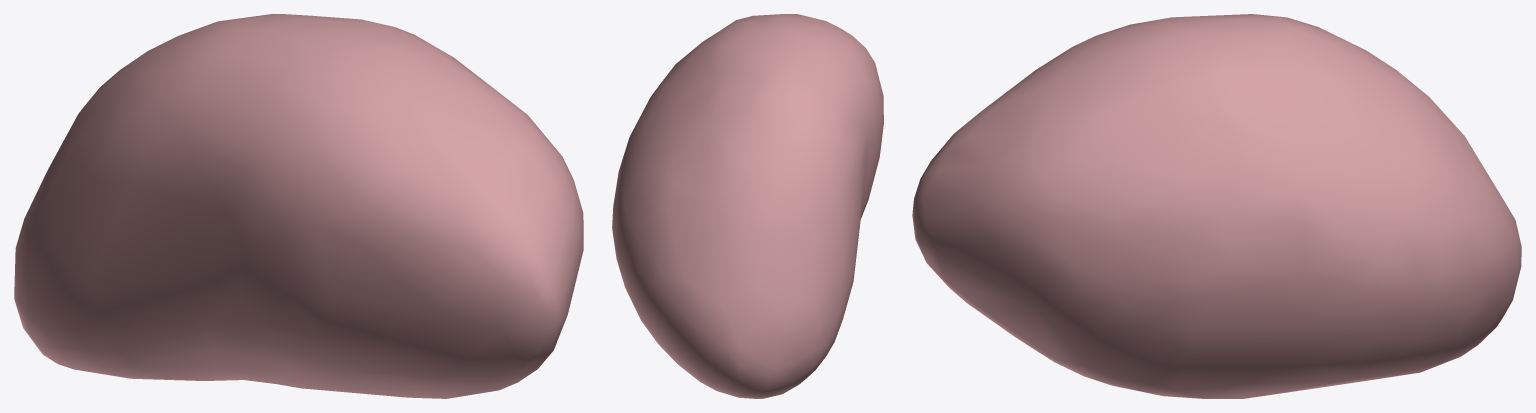
The model's file is fma258714_fj1827.glb.
3 renders of one model, left to right at view 1: azimuth 30°, elevation 25°; view 2: azimuth 150°, elevation 25°; view 3: azimuth 270°, elevation 25°, orthographic. The views are drawn at different scales.
Parts seen in each view (by area): view 1: FMA258714_FJ1827; view 2: FMA258714_FJ1827; view 3: FMA258714_FJ1827.
Part boxes in pixels (left/top/right/bottom): FMA258714_FJ1827: left=14, top=14, right=583, bottom=398; FMA258714_FJ1827: left=612, top=14, right=883, bottom=398; FMA258714_FJ1827: left=912, top=14, right=1521, bottom=398.
Size of the model in its own units: 0.0234 by 0.0236 by 0.0365.
